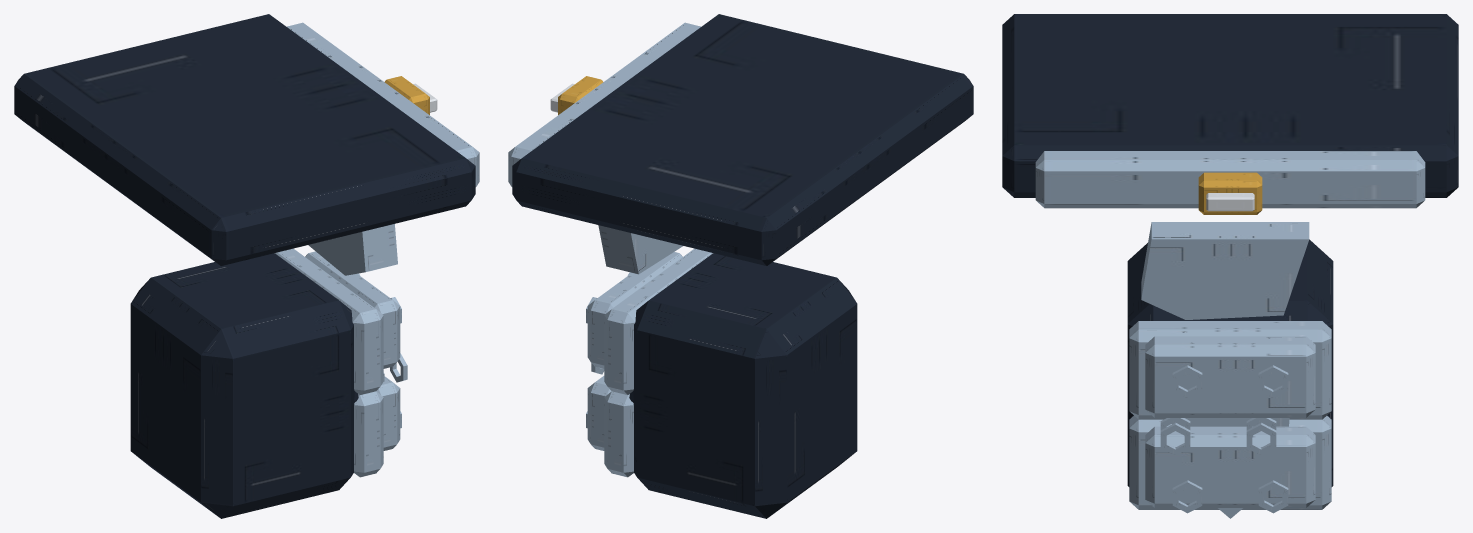
File: chausses.glb
The picture shows the model from 3 angles, left to right: view 1: azimuth 30°, elevation 25°; view 2: azimuth 150°, elevation 25°; view 3: azimuth 270°, elevation 25°; orthographic projection. The views are drawn at different scales.
Visible parts, largest first — view 1: hips, leg_L, shin_L; view 2: hips, leg_L, shin_L; view 3: hips, leg_L, shin_L.
Boxes of the visible parts, left/top/right/bottom form: hips: left=14, top=14, right=479, bottom=265; leg_L: left=130, top=248, right=407, bottom=518; shin_L: left=308, top=224, right=397, bottom=402; hips: left=508, top=14, right=973, bottom=265; leg_L: left=586, top=248, right=857, bottom=518; shin_L: left=598, top=225, right=682, bottom=402; hips: left=1002, top=14, right=1458, bottom=214; leg_L: left=1127, top=239, right=1333, bottom=513; shin_L: left=1141, top=222, right=1309, bottom=518.
Bounding box in the file's own units: 0.232 × 0.256 × 0.266.
Materials: 4 (4 with a texture image).
